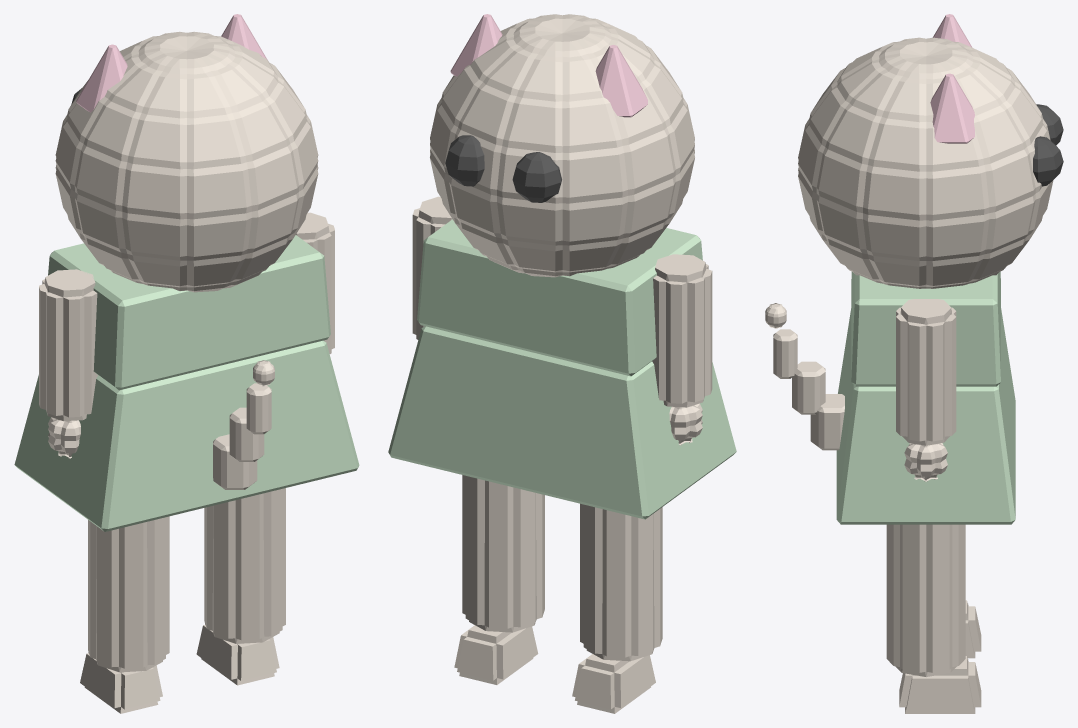
Rendered from 45f59927-7101-41c5-8a90-344aab812bc0_final.glb.
3 renders of one model, left to right at view 1: azimuth 30°, elevation 25°; view 2: azimuth 150°, elevation 25°; view 3: azimuth 270°, elevation 25°, orthographic. The views are drawn at different scales.
Visible parts, largest first — view 1: CatHumanoid_Body, CatHumanoid_Dress, CatHumanoid_Tail, CatHumanoid_Ears; view 2: CatHumanoid_Body, CatHumanoid_Dress, CatHumanoid_Ears, CatHumanoid_Eyes; view 3: CatHumanoid_Body, CatHumanoid_Dress, CatHumanoid_Tail, CatHumanoid_Ears, CatHumanoid_Eyes.
Part boxes in pixels (x1,y1,x2,y2): CatHumanoid_Body: (39, 31, 334, 713); CatHumanoid_Dress: (14, 235, 359, 531); CatHumanoid_Tail: (213, 360, 274, 489); CatHumanoid_Ears: (76, 14, 267, 112); CatHumanoid_Body: (412, 14, 712, 713); CatHumanoid_Dress: (388, 219, 736, 519); CatHumanoid_Ears: (450, 14, 647, 117); CatHumanoid_Eyes: (445, 135, 561, 202); CatHumanoid_Body: (798, 37, 1053, 713); CatHumanoid_Dress: (836, 271, 1015, 524); CatHumanoid_Tail: (765, 303, 844, 450); CatHumanoid_Ears: (930, 14, 974, 143); CatHumanoid_Eyes: (1033, 104, 1063, 186).
Size of the model in its own units: 0.6885 by 1.49 by 0.6358.
